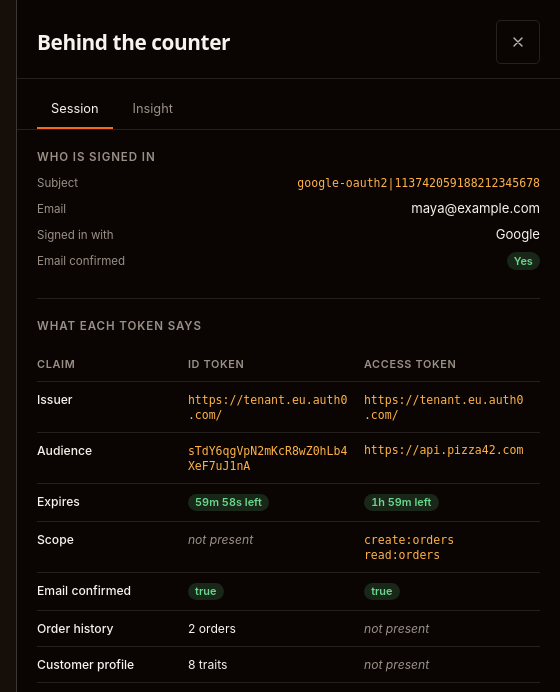
Scenario: Behind the counter — insight › shows the segment and how far it is to the next one
The image size is (560, 692).
Step 1. Click the tab "Insight" → (153, 109), box [118,89,187,129]
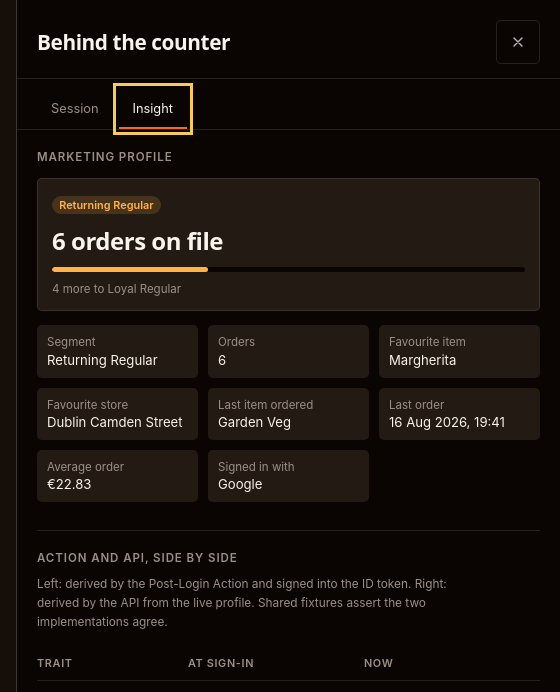
expect the 1st text "Returning Regular" is shown: met, box [52,196,161,214]
expect the text "4 more to Loyal Regular" is shown: met, box [52,282,181,296]
expect the text "€22.83" is shown 3 times: met
